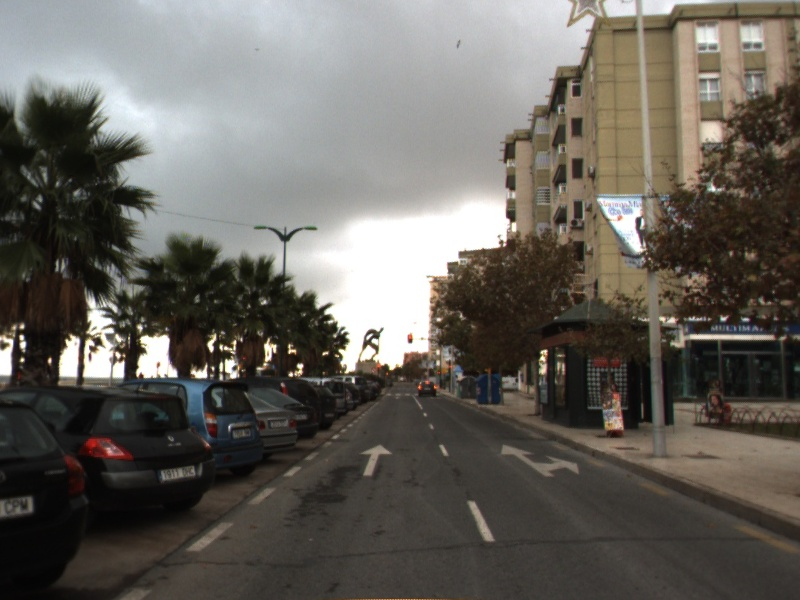STRAIGHT: (359, 443, 394, 477)
STRAIGHT_RIGHT: (500, 443, 581, 479)
